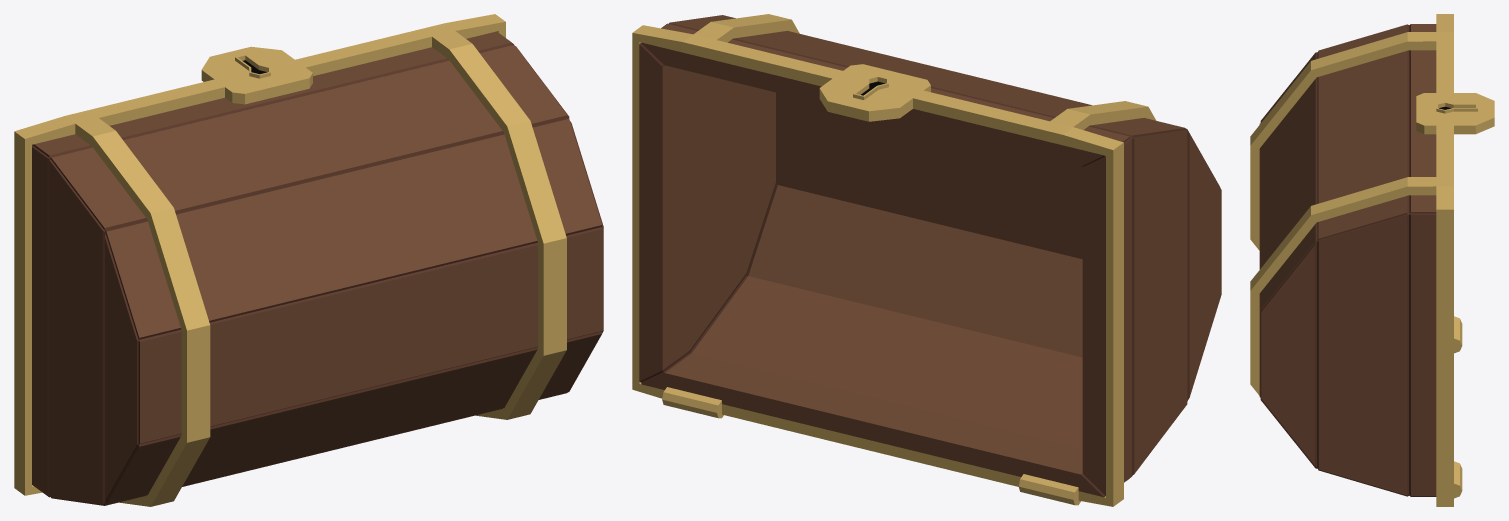
Rendered from Chest_Lid.fbx.
The picture shows the model from 3 angles, left to right: view 1: azimuth 30°, elevation 25°; view 2: azimuth 150°, elevation 25°; view 3: azimuth 270°, elevation 25°; orthographic projection. The views are drawn at different scales.
Visible parts, largest first — view 1: Chest_Lid; view 2: Chest_Lid; view 3: Chest_Lid.
Part boxes in pixels (box(x1,y1,x2,y2)): Chest_Lid: box(14, 14, 603, 506); Chest_Lid: box(632, 14, 1221, 506); Chest_Lid: box(1250, 14, 1494, 506).
Bounding box in the file's own units: 103 × 75.78 × 54.37.
